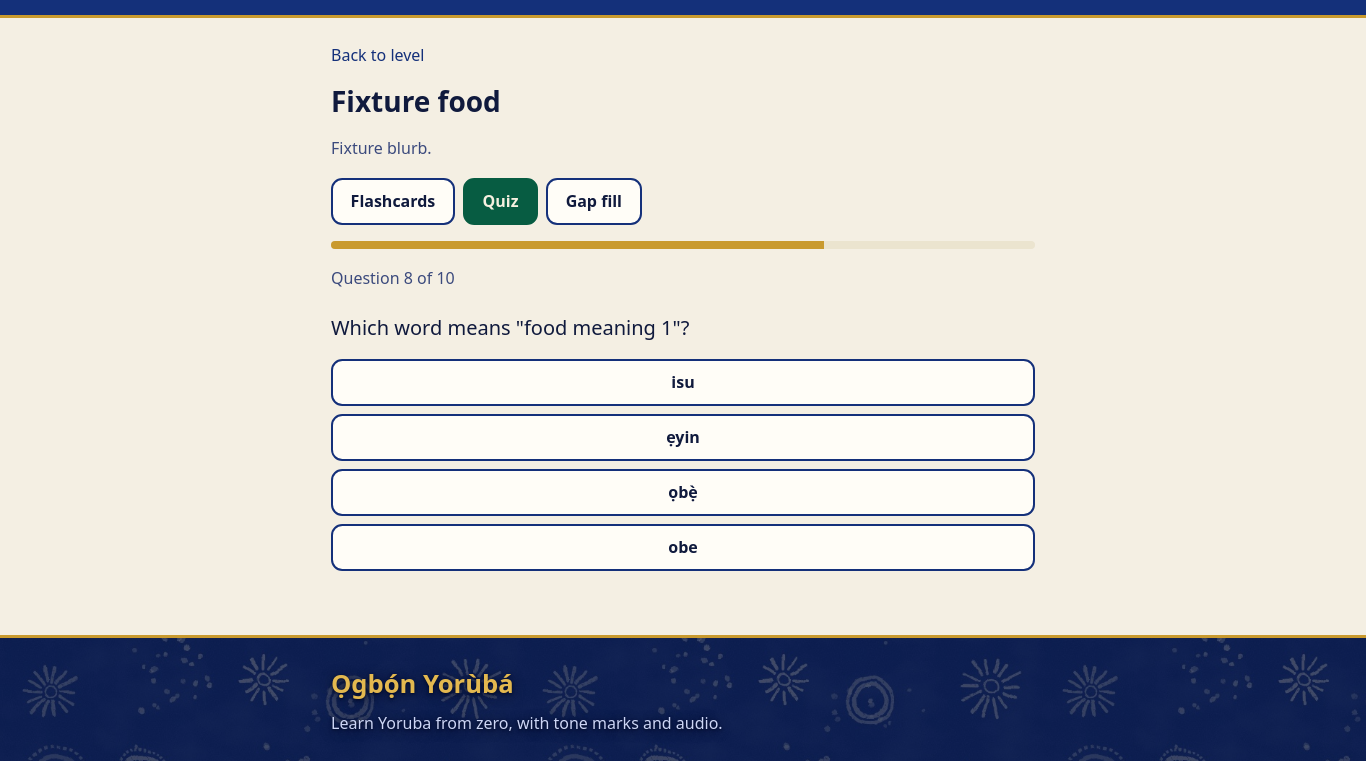
vocab pages › finishing a full quiz records quiz progress and shows results
This screenshot has width=1366, height=761.
Earlier steps of the test are not shown.
(page scrolled)
Click the button with test id "choice" showing "obe": (683, 548) [331,524,1035,571]
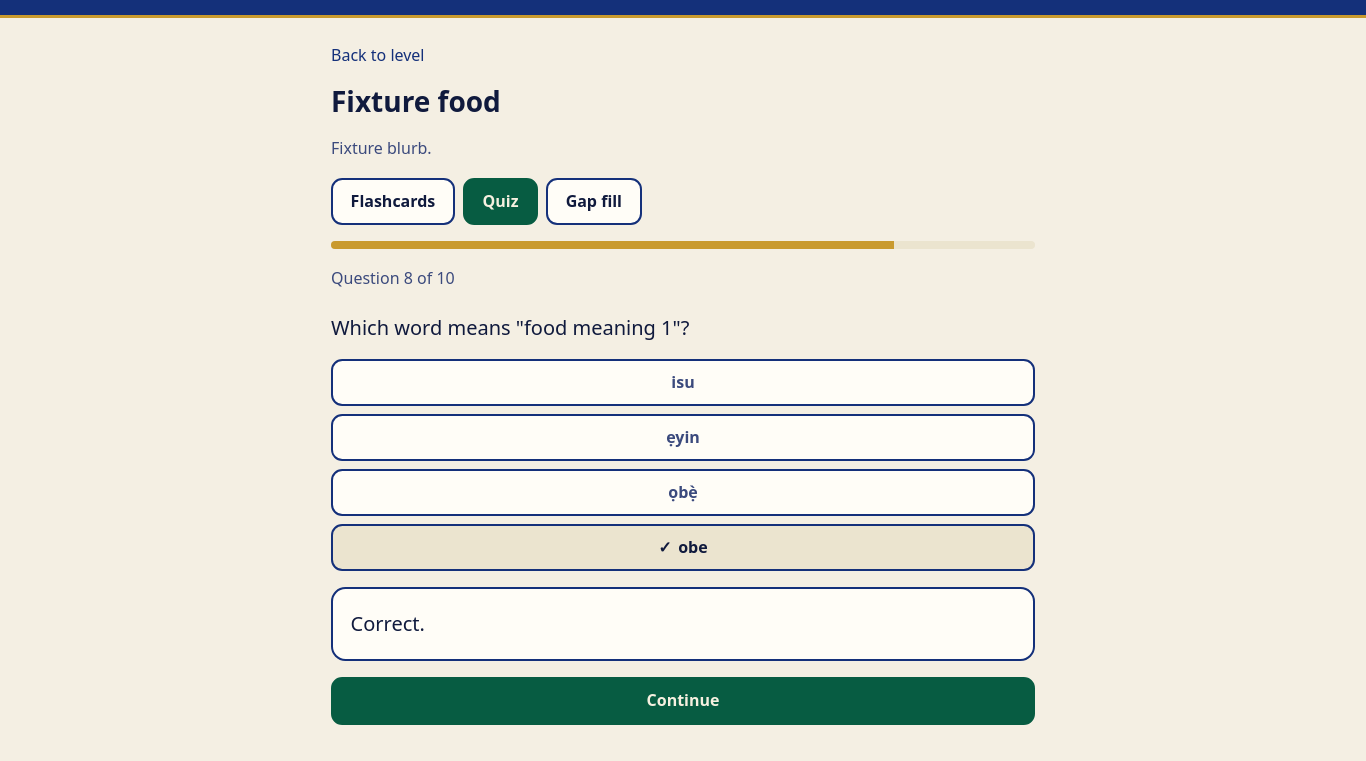
Click the button "Continue": (683, 701) [331,677,1035,724]
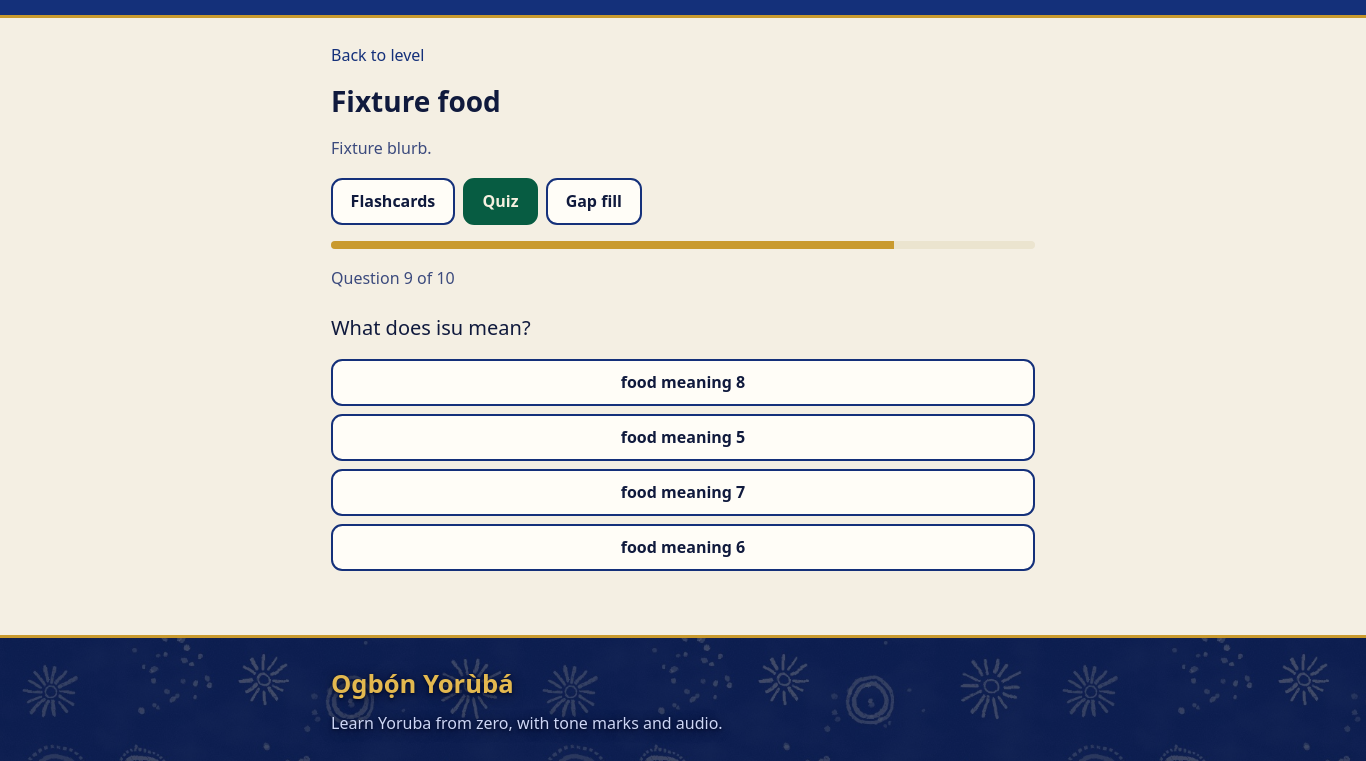
Click the button with test id "choice" showing "food meaning 5": (683, 437) [331,414,1035,461]
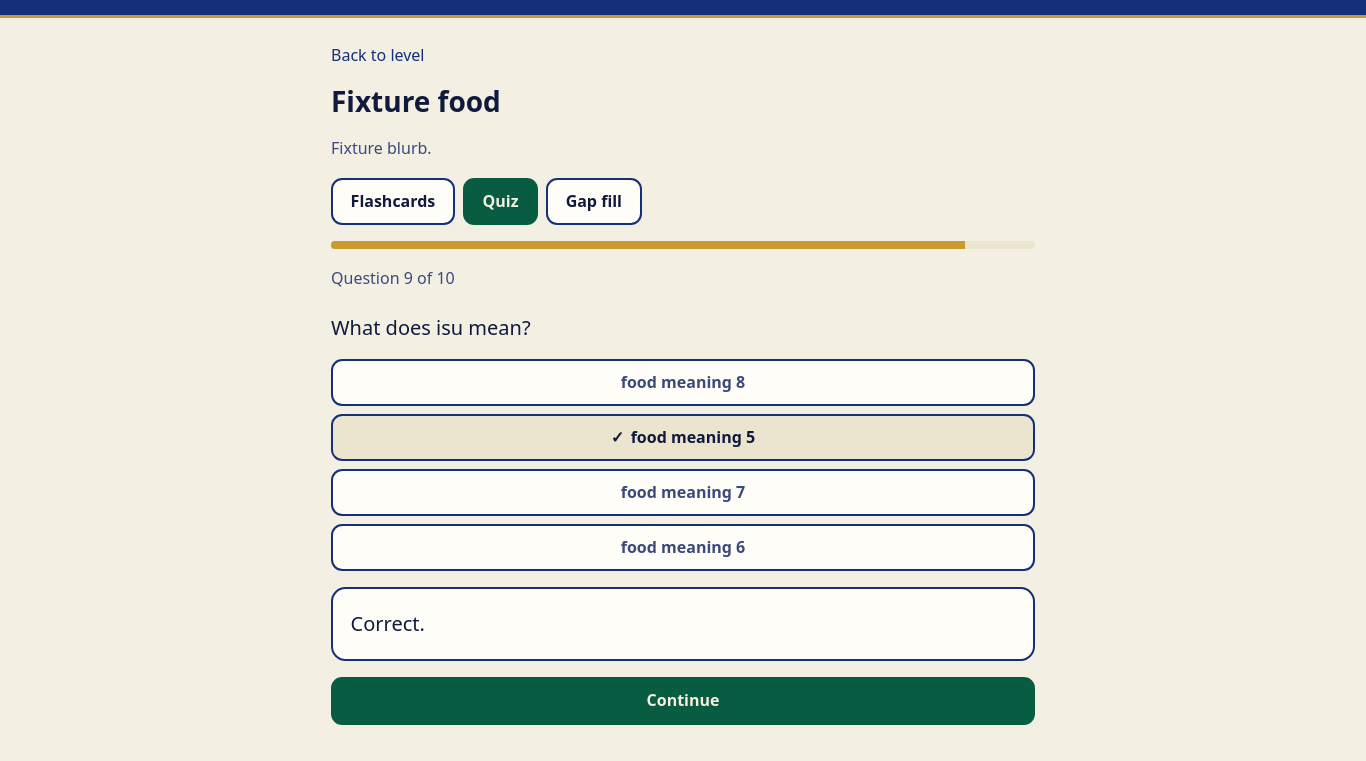
Click the button "Continue": (683, 701) [331,677,1035,724]
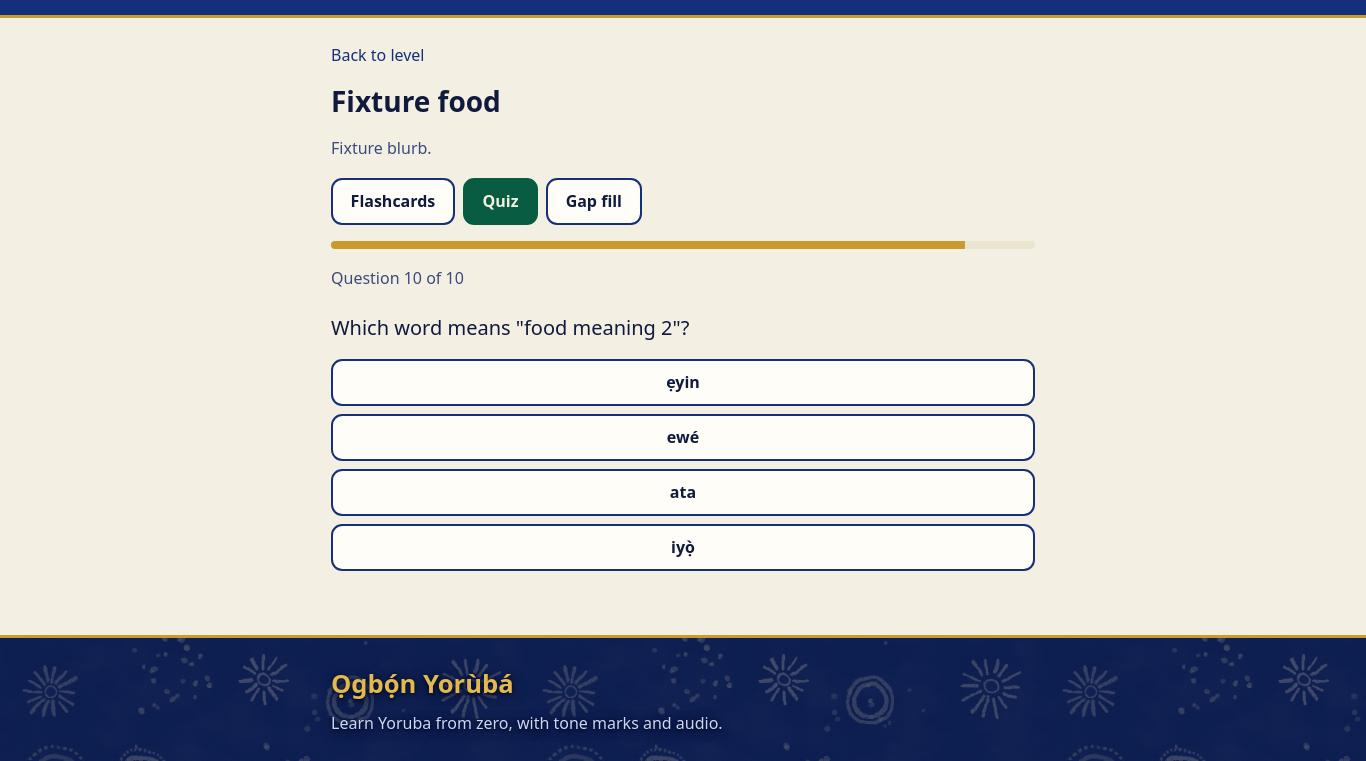
Click the button with test id "choice" showing "iyọ̀": (683, 548) [331,524,1035,571]
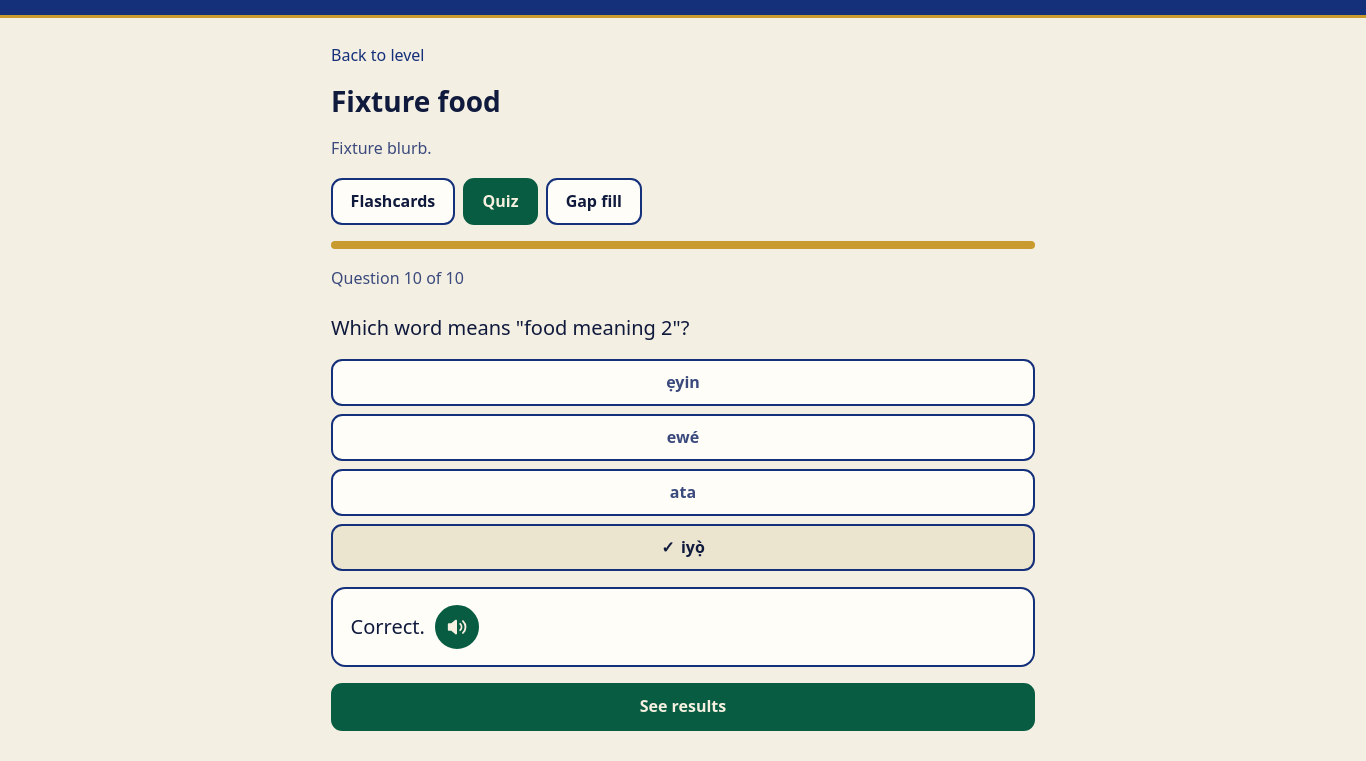
Click the button "See results": (683, 707) [331,683,1035,730]
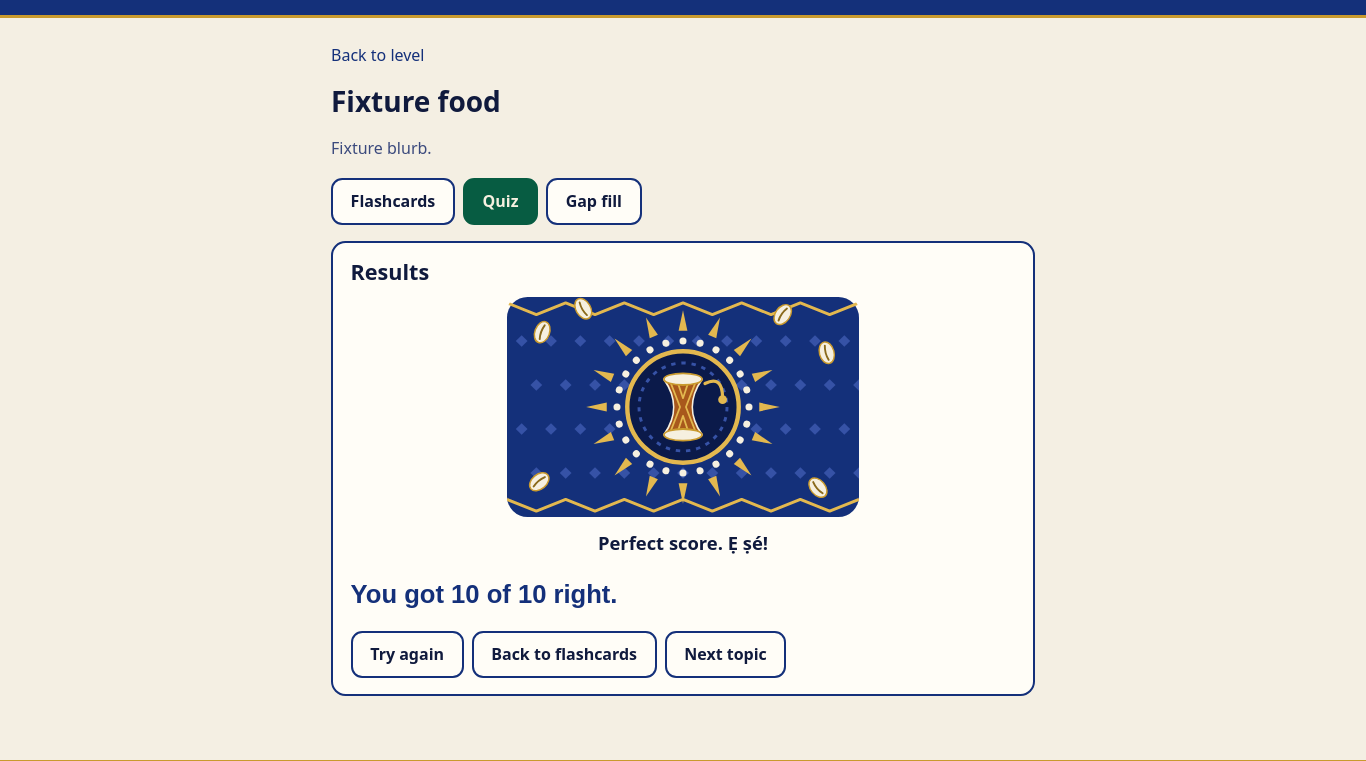
Now the text "You got 10 of 10 right." is shown, box [351,580,618,608]
Now the button "Try again" is shown, box [351,631,464,678]
Now the button "Back to flashcards" is shown, box [472,631,657,678]
